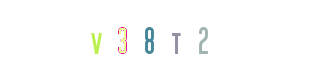2: (147, 0, 227, 80)
3: (83, 0, 163, 80)
8: (109, 0, 189, 80)
T: (117, 0, 197, 80)
V: (67, 0, 147, 80)
